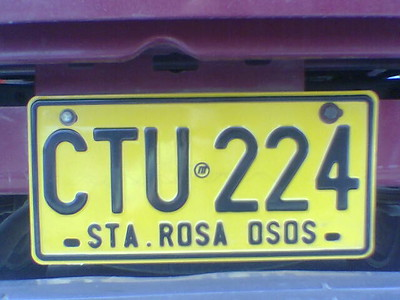placa_carro: (24, 86, 390, 273)
